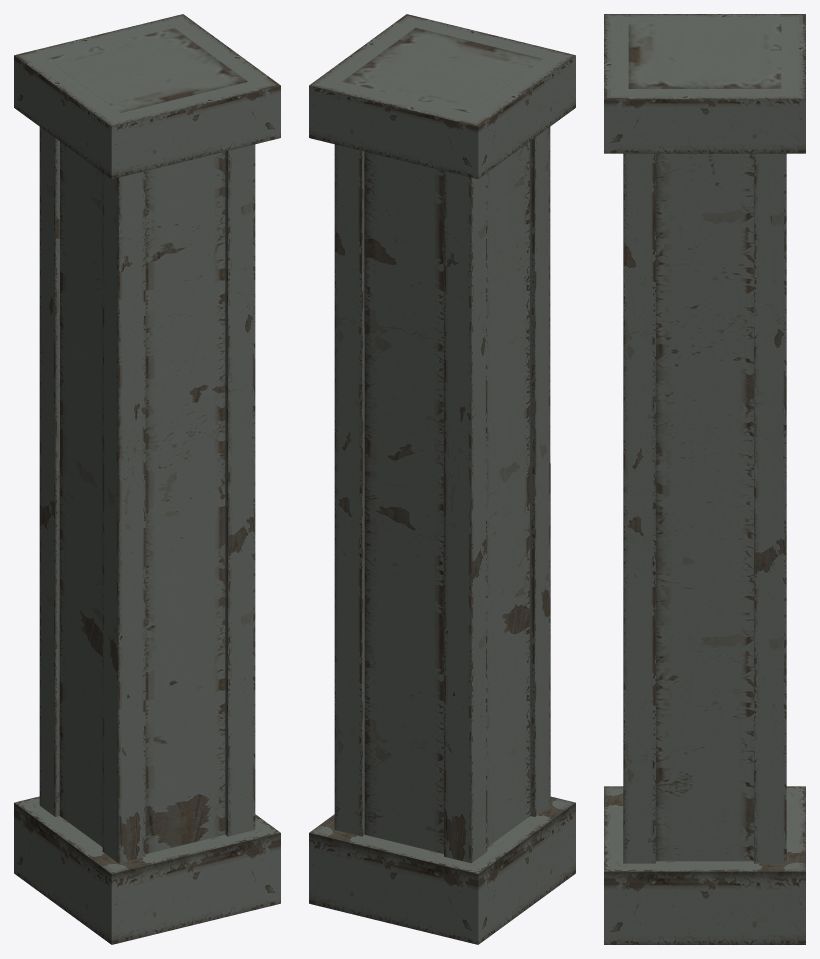
Rendered from SM_ColumnE.FBX.
3 views of the same model, side by side, from view 1: azimuth 30°, elevation 25°; view 2: azimuth 150°, elevation 25°; view 3: azimuth 270°, elevation 25° (orthographic). The views are drawn at different scales.
Parts seen in each view (by area): view 1: SM_ColumnE; view 2: SM_ColumnE; view 3: SM_ColumnE.
Part boxes in pixels (x1=…): SM_ColumnE: x1=14, y1=14, x2=280, y2=944; SM_ColumnE: x1=309, y1=14, x2=575, y2=944; SM_ColumnE: x1=604, y1=14, x2=805, y2=944.
Bounding box in the file's own units: 75.75 × 350 × 75.75.
